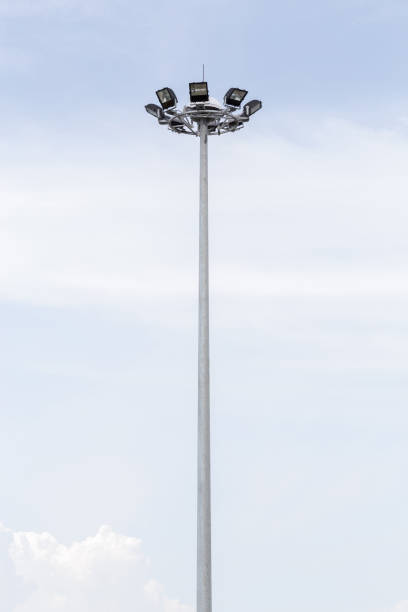light_pole: (195, 140, 216, 612)
